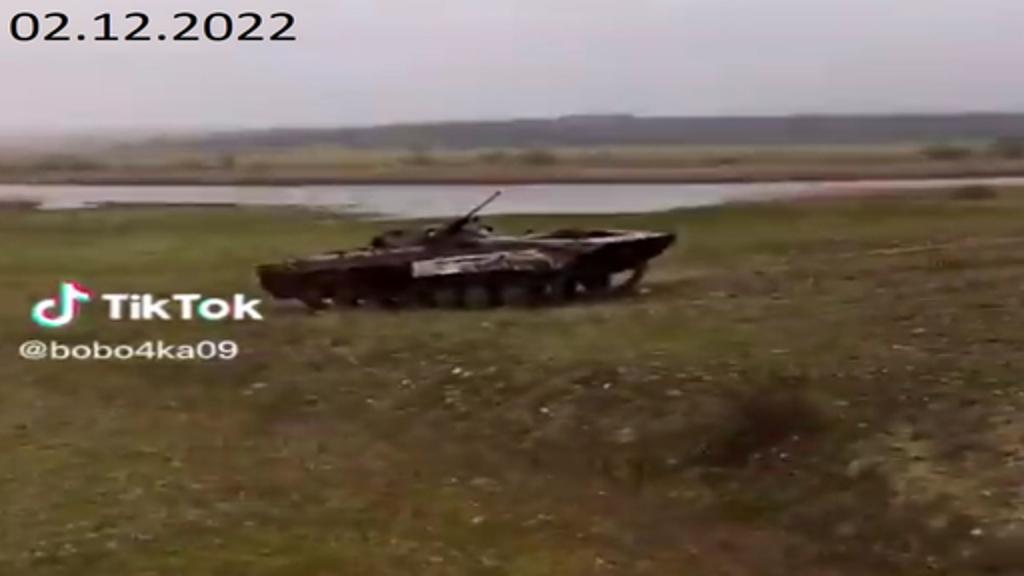APC-IFV: (244, 182, 682, 316)
